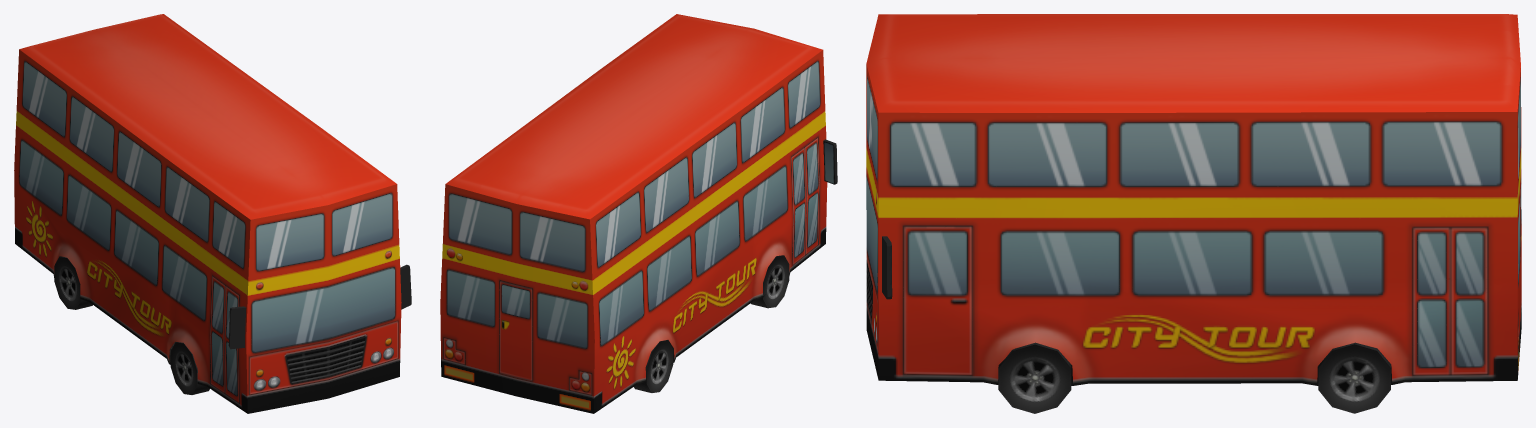
File: bus.glb
3 views of the same model, side by side, from view 1: azimuth 30°, elevation 25°; view 2: azimuth 150°, elevation 25°; view 3: azimuth 270°, elevation 25° (orthographic). The views are drawn at different scales.
Visible parts, largest first — view 1: car04, car04_wheel04, car04_wheel02; view 2: car04, car04_wheel02, car04_wheel04; view 3: car04, car04_wheel03, car04_wheel01.
Part boxes in pixels (<box>): car04: <box>14,14,411,413</box>; car04_wheel04: <box>170,342,209,394</box>; car04_wheel02: <box>54,256,92,309</box>; car04: <box>440,14,837,413</box>; car04_wheel02: <box>634,340,673,392</box>; car04_wheel04: <box>750,255,789,308</box>; car04: <box>866,14,1521,385</box>; car04_wheel03: <box>998,342,1071,413</box>; car04_wheel01: <box>1318,342,1390,413</box>.
Size of the model in its own units: 2.39 by 2.73 by 5.42.
Materials: 1 (1 with a texture image).
